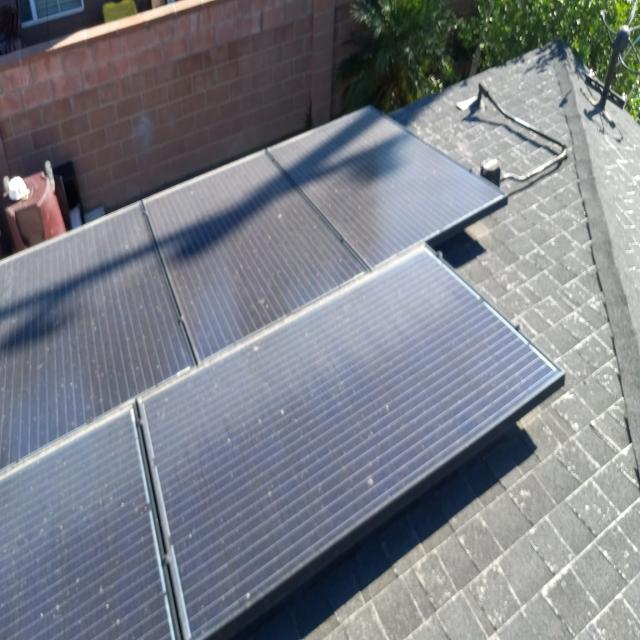dust-solar-panel: (0, 102, 563, 640)
